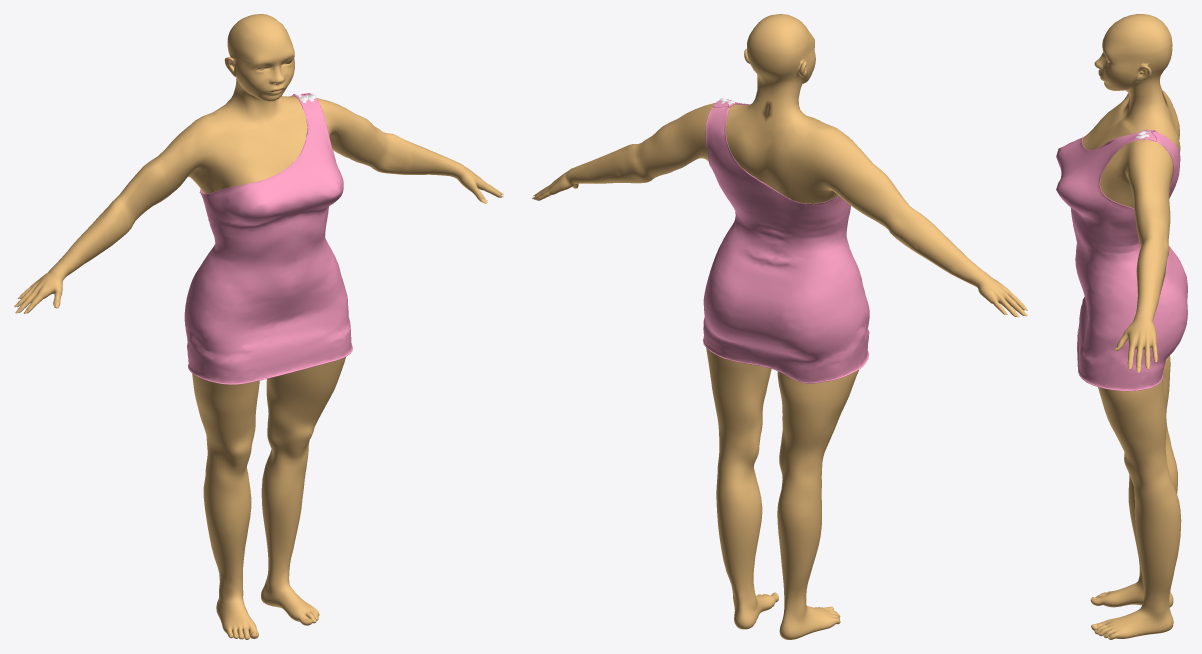
The model's file is dress1.glb.
3 views of the same model, side by side, from view 1: azimuth 30°, elevation 25°; view 2: azimuth 150°, elevation 25°; view 3: azimuth 270°, elevation 25° (orthographic).
Visible parts, largest first — view 1: Body, WhiteDress; view 2: Body, WhiteDress; view 3: Body, WhiteDress.
Boxes of the visible parts, x1,y1,x2,y2 form: Body: [16, 14, 503, 639]; WhiteDress: [184, 93, 352, 384]; Body: [533, 14, 1024, 639]; WhiteDress: [703, 98, 869, 383]; Body: [1082, 14, 1181, 639]; WhiteDress: [1056, 130, 1187, 391].
Bounding box in the file's own units: 1.58 × 1.85 × 0.3678.
